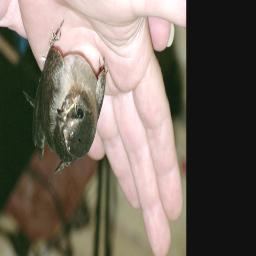Swallow: (21, 14, 108, 177)
